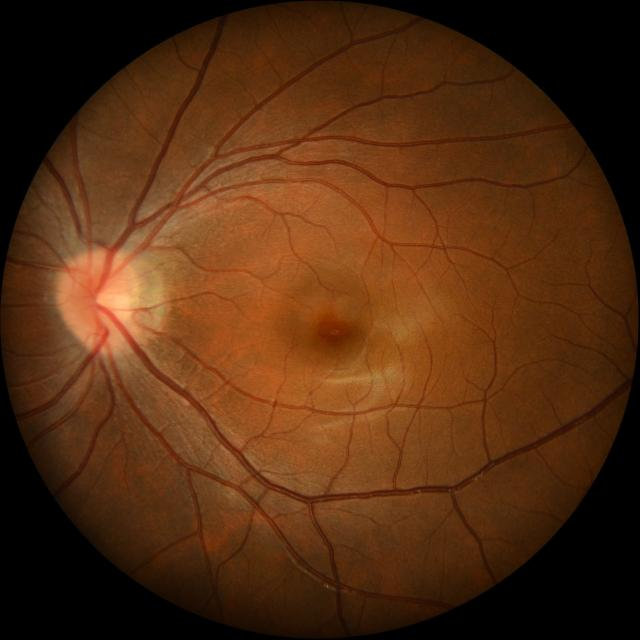OC: (94, 288, 120, 313)
OD: (60, 252, 136, 348)
